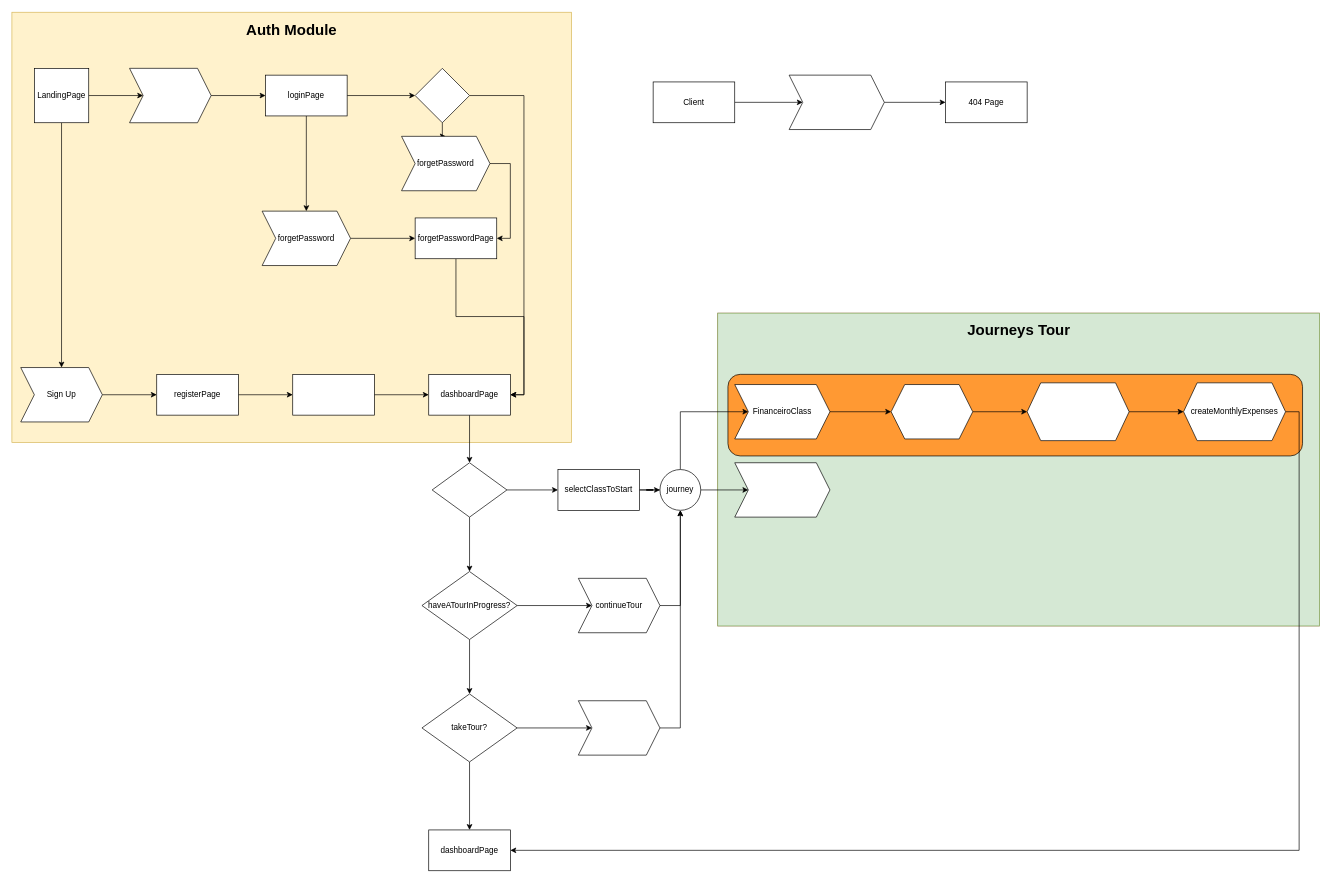
Some shapes in this 1331 by 883 pixel diagram are drawn without their labels. Each missing label, with the centre of its shape:
"createMonthlyRevenue" goes at pixel 1077 411.
"createWallet" goes at pixel 931 411.
"isFirstLogin?" goes at pixel 469 489.
"isLogin?" goes at pixel 442 95.
"LifeStyleClass" goes at pixel 782 489.
"notFoundPage" goes at pixel 836 102.
"Sign In" goes at pixel 170 95.
"startTour" goes at pixel 619 727.
"verificationPage" goes at pixel 333 394.
